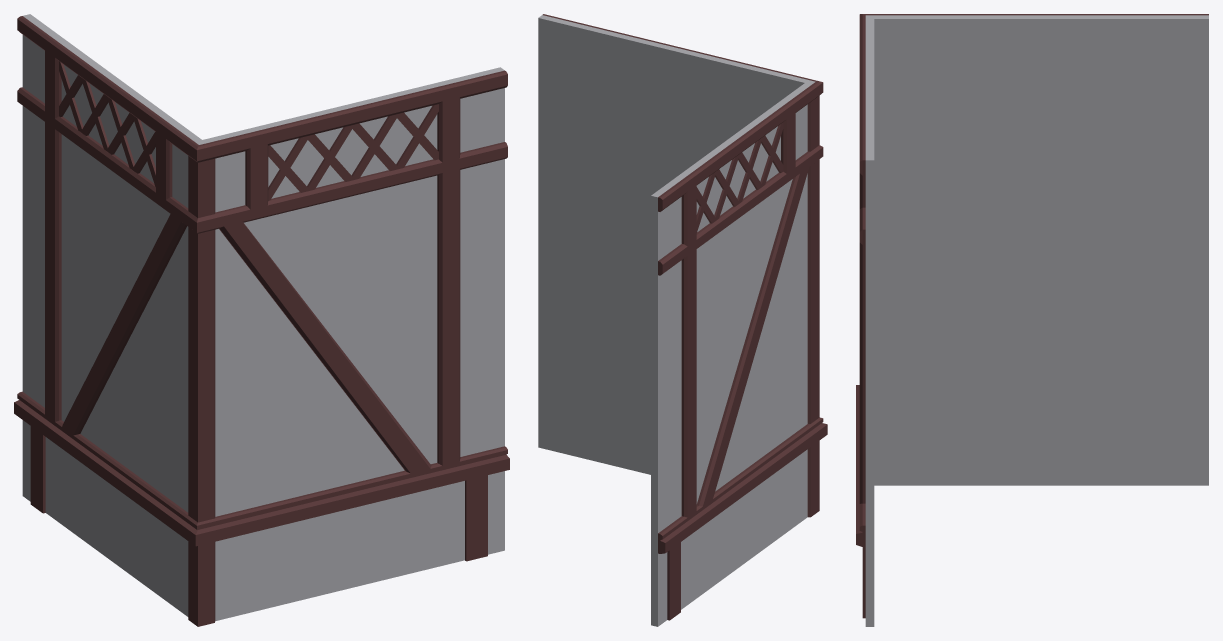
The model's file is Edge_Wall_S.fbx.
3 renders of one model, left to right at view 1: azimuth 30°, elevation 25°; view 2: azimuth 150°, elevation 25°; view 3: azimuth 270°, elevation 25°, orthographic. The views are drawn at different scales.
Parts seen in each view (by area): view 1: Edge_Wall_S; view 2: Edge_Wall_S; view 3: Edge_Wall_S.
Boxes of the visible parts, box(x1,y1,x2,y2) form: Edge_Wall_S: box(14, 14, 509, 626); Edge_Wall_S: box(538, 14, 827, 626); Edge_Wall_S: box(856, 14, 1208, 626).
Bounding box in the file's own units: 205 × 205 × 300.
